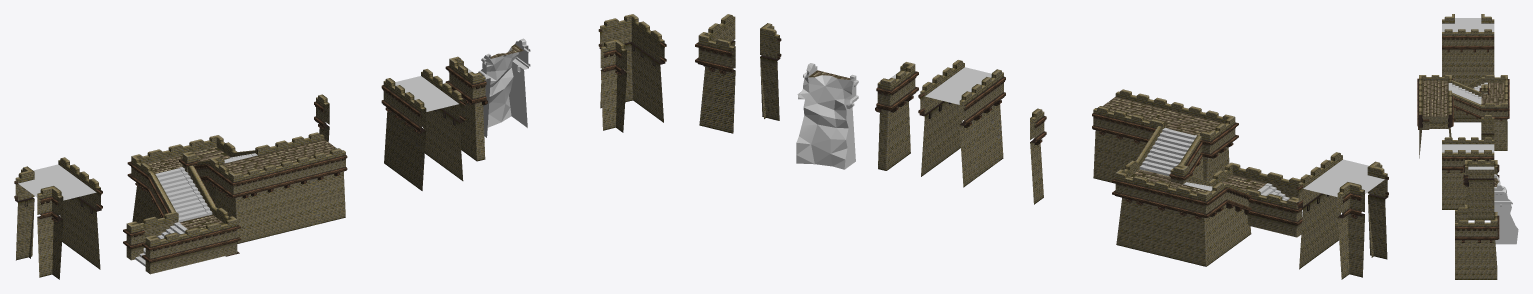
The model's file is EnvMdrMD_Desert_Gate_A_Wall_Corner.FBX.
The picture shows the model from 3 angles, left to right: view 1: azimuth 30°, elevation 25°; view 2: azimuth 150°, elevation 25°; view 3: azimuth 270°, elevation 25°; orthographic projection. The views are drawn at different scales.
Visible parts, largest first — view 1: EnvMdrMD_Desert_Gate_A_Wall_Unique_A, EnvMdrMD_Desert_Gate_A_Wall_Junction, EnvMdrMD_Desert_Gate_A_Wall_Loop, EnvMdrMD_Desert_Gate_A_Wall_Corner, EnvMdrMD_Desert_Gate_A_Wall_Loop_End_L, EnvMdrMD_Desert_Gate_A_Wall_End_A, EnvMdrMD_Desert_Gate_A_Wall_Loop_A; view 2: EnvMdrMD_Desert_Gate_A_Wall_Unique_A, EnvMdrMD_Desert_Gate_A_Wall_Junction, EnvMdrMD_Desert_Gate_A_Wall_Loop, EnvMdrMD_Desert_Gate_A_Wall_Corner, EnvMdrMD_Desert_Gate_A_Wall_Loop_End_L, EnvMdrMD_Desert_Gate_A_Wall_End_A, EnvMdrMD_Desert_Gate_A_Wall_Loop_A; view 3: EnvMdrMD_Desert_Gate_A_Wall_Unique_A, EnvMdrMD_Desert_Gate_A_Wall_Junction, EnvMdrMD_Desert_Gate_A_Wall_Corner, EnvMdrMD_Desert_Gate_A_Wall_Loop, EnvMdrMD_Desert_Gate_A_Wall_End_A, EnvMdrMD_Desert_Gate_A_Wall_Loop_End_L, EnvMdrMD_Desert_Gate_A_Wall_Loop_A.
Part boxes in pixels (x1,y1,x2,y2): EnvMdrMD_Desert_Gate_A_Wall_Unique_A: (123,132,347,274); EnvMdrMD_Desert_Gate_A_Wall_Junction: (14,157,102,279); EnvMdrMD_Desert_Gate_A_Wall_Loop: (381,69,465,190); EnvMdrMD_Desert_Gate_A_Wall_Corner: (598,14,666,132); EnvMdrMD_Desert_Gate_A_Wall_Loop_End_L: (478,38,530,137); EnvMdrMD_Desert_Gate_A_Wall_End_A: (445,56,487,161); EnvMdrMD_Desert_Gate_A_Wall_Loop_A: (314,94,329,141); EnvMdrMD_Desert_Gate_A_Wall_Unique_A: (1092,89,1302,266); EnvMdrMD_Desert_Gate_A_Wall_Junction: (1296,152,1388,279); EnvMdrMD_Desert_Gate_A_Wall_Loop: (918,60,1005,187); EnvMdrMD_Desert_Gate_A_Wall_Corner: (695,14,781,133); EnvMdrMD_Desert_Gate_A_Wall_Loop_End_L: (796,63,858,169); EnvMdrMD_Desert_Gate_A_Wall_End_A: (875,62,918,170); EnvMdrMD_Desert_Gate_A_Wall_Loop_A: (1030,108,1046,204); EnvMdrMD_Desert_Gate_A_Wall_Unique_A: (1417,75,1509,158); EnvMdrMD_Desert_Gate_A_Wall_Junction: (1442,14,1494,85); EnvMdrMD_Desert_Gate_A_Wall_Corner: (1455,204,1499,279); EnvMdrMD_Desert_Gate_A_Wall_Loop: (1442,137,1494,209); EnvMdrMD_Desert_Gate_A_Wall_End_A: (1463,160,1499,220); EnvMdrMD_Desert_Gate_A_Wall_Loop_End_L: (1494,174,1518,244); EnvMdrMD_Desert_Gate_A_Wall_Loop_A: (1481,115,1494,139).
Size of the model in its own units: 7559 by 1102 by 1542.
